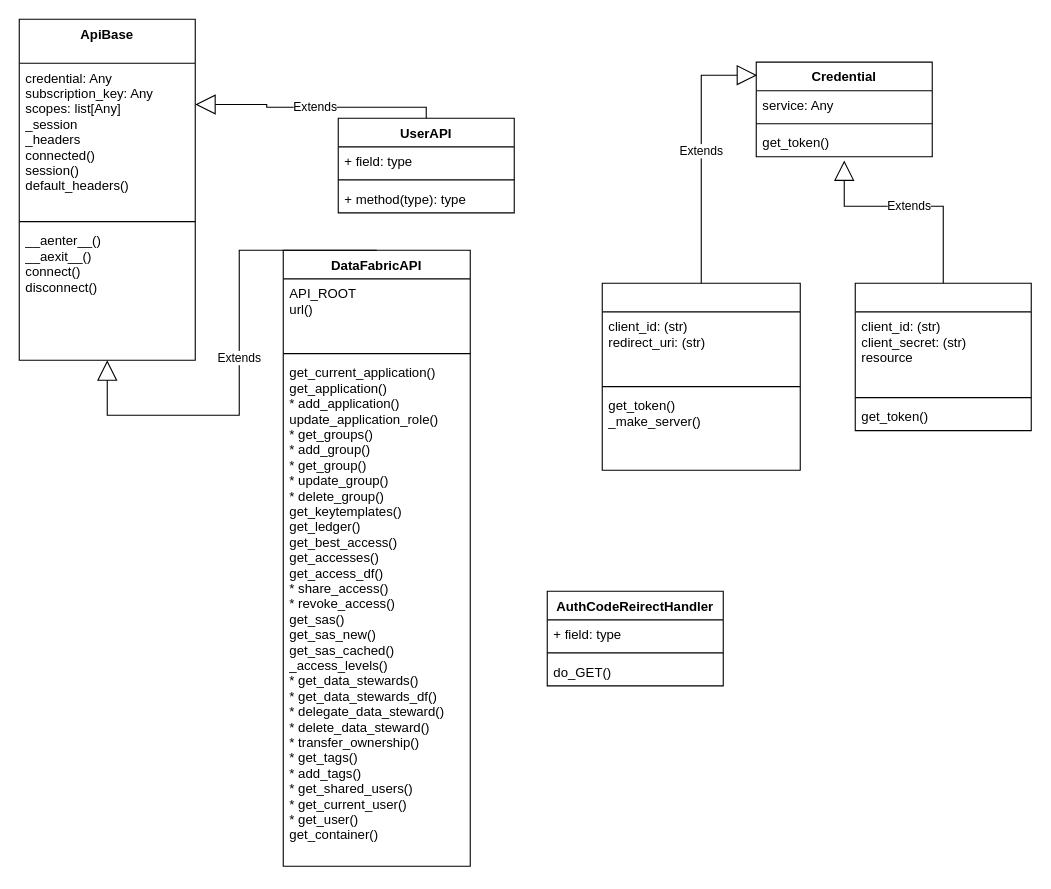
Some shapes in this 1051 by 889 pixel diagram are drawn without their labels. The box of each missing label's shape, as (x1, y1, x2, y2) in pixels:
ClientSecretCredential: (854, 282, 1031, 431)
InteractiveBrowserCredential: (601, 282, 800, 470)
